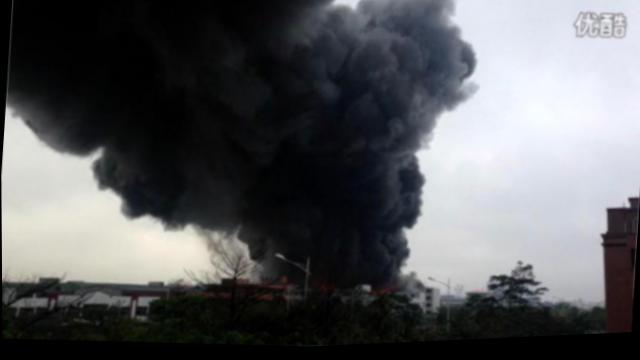smoke: (110, 0, 351, 175), (172, 153, 426, 246), (4, 0, 120, 162), (338, 0, 442, 172), (238, 228, 410, 293), (91, 157, 176, 226), (434, 2, 484, 119)
